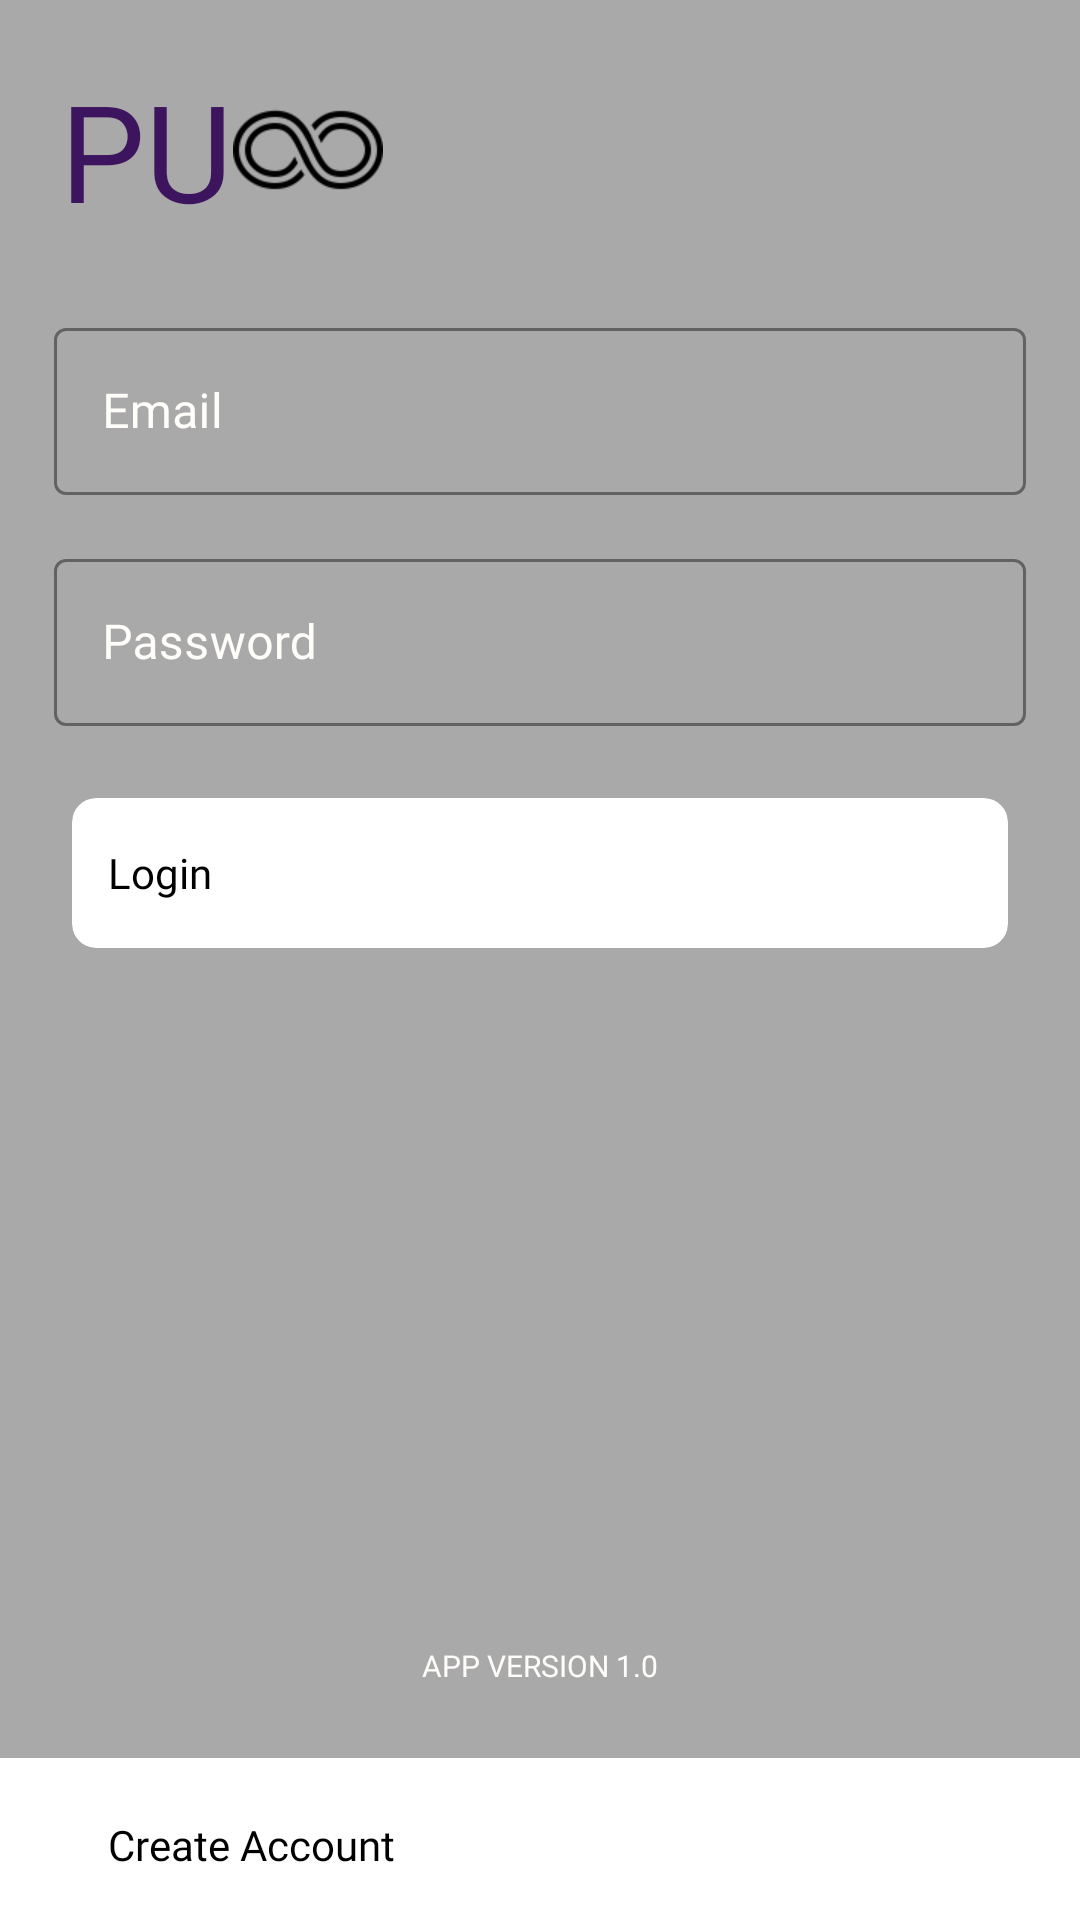

Screen size 1080x1920. Icon name, then its box in pixels as (left=x1, top=y1, right=x2, bottom=y2):
infinite: (left=233, top=110, right=383, bottom=190)
